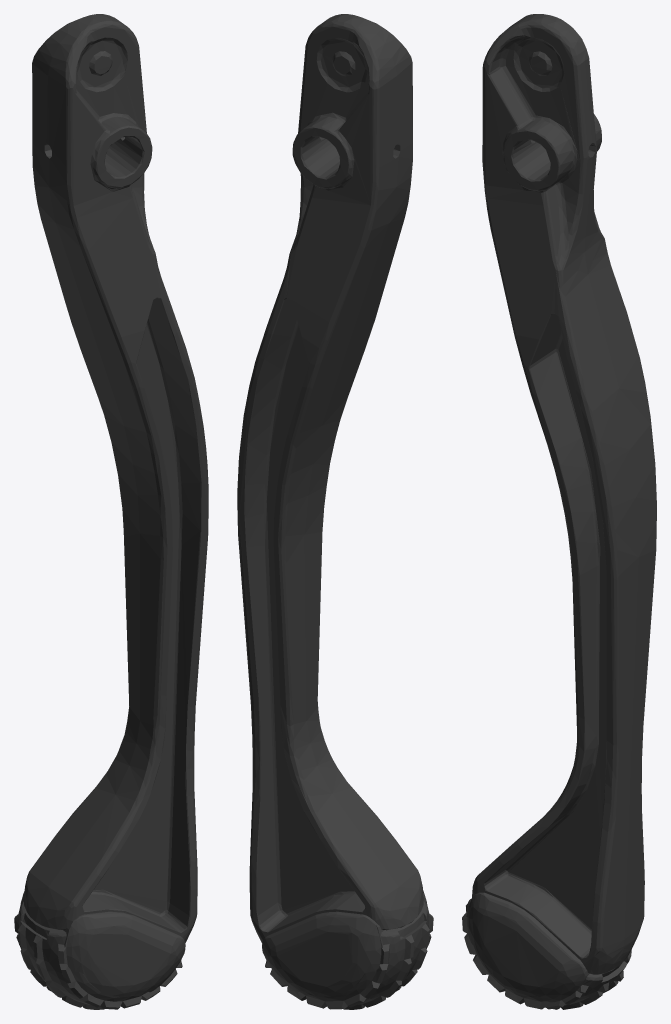
The model's file is front_left_lower_leg.dae.
3 renders of one model, left to right at view 1: azimuth 30°, elevation 25°; view 2: azimuth 150°, elevation 25°; view 3: azimuth 330°, elevation 25°, orthographic.
Parts seen in each view (by area): view 1: front_left_lower_leg; view 2: front_left_lower_leg; view 3: front_left_lower_leg.
Part boxes in pixels (x1,y1,x2,y2): front_left_lower_leg: (14,14,208,1009); front_left_lower_leg: (237,14,433,1009); front_left_lower_leg: (462,14,656,1009).
Bounding box in the file's own units: 0.0743 × 0.046 × 0.4249.
